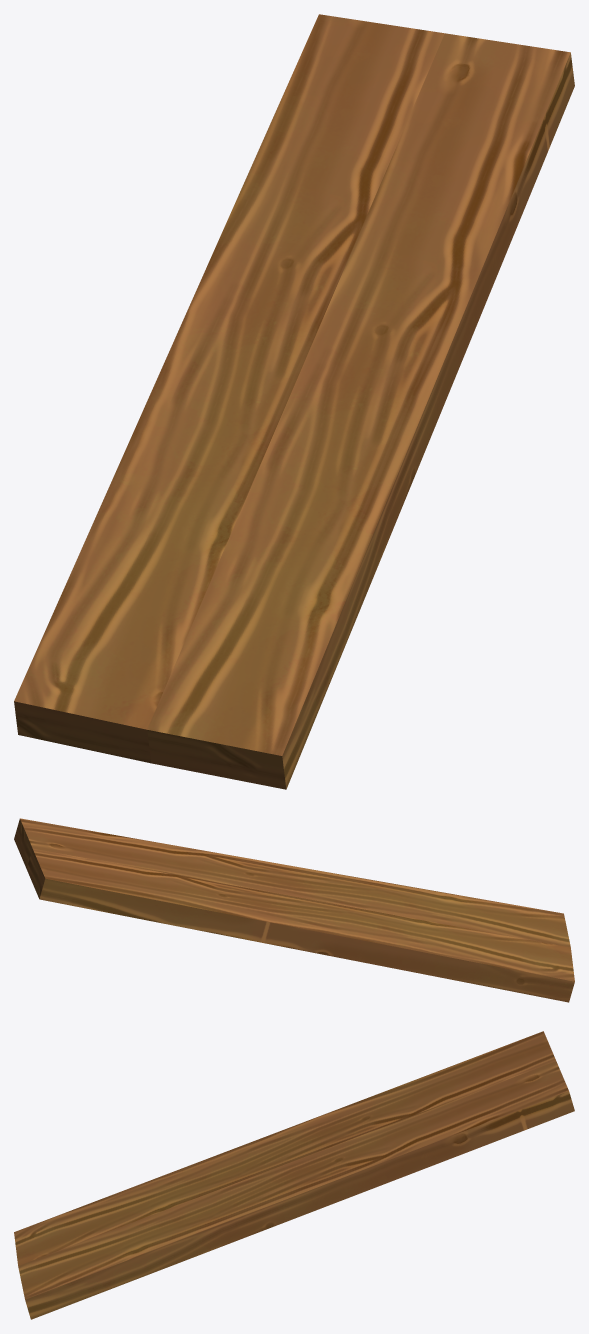
3 renders of one model, top to bottom at view 1: azimuth 30°, elevation 25°; view 2: azimuth 150°, elevation 25°; view 3: azimuth 330°, elevation 25°, orthographic. The views are drawn at different scales.
Visible parts, largest first — view 1: Cube.651; view 2: Cube.651; view 3: Cube.651.
Boxes of the visible parts, x1,y1,x2,y2 form: Cube.651: [14, 14, 574, 789]; Cube.651: [14, 818, 574, 1002]; Cube.651: [14, 1031, 574, 1319].
Size of the model in its own units: 281 by 108 by 284.
Materials: 1 (1 with a texture image).
